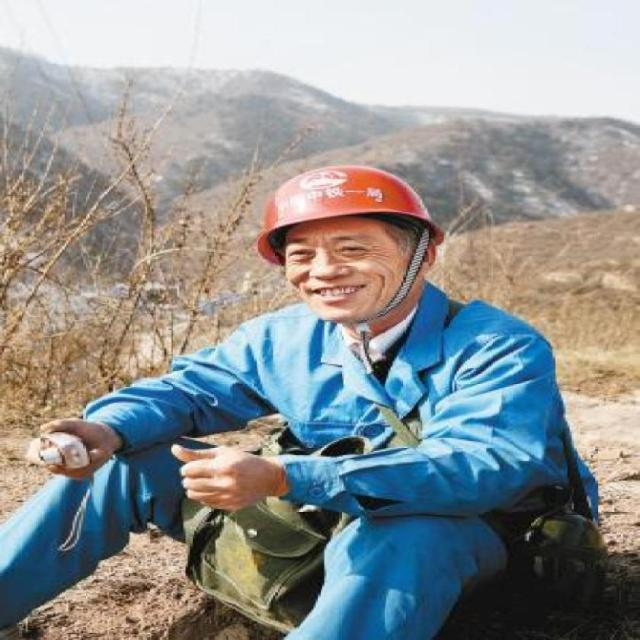con_casco: (257, 162, 453, 335)
